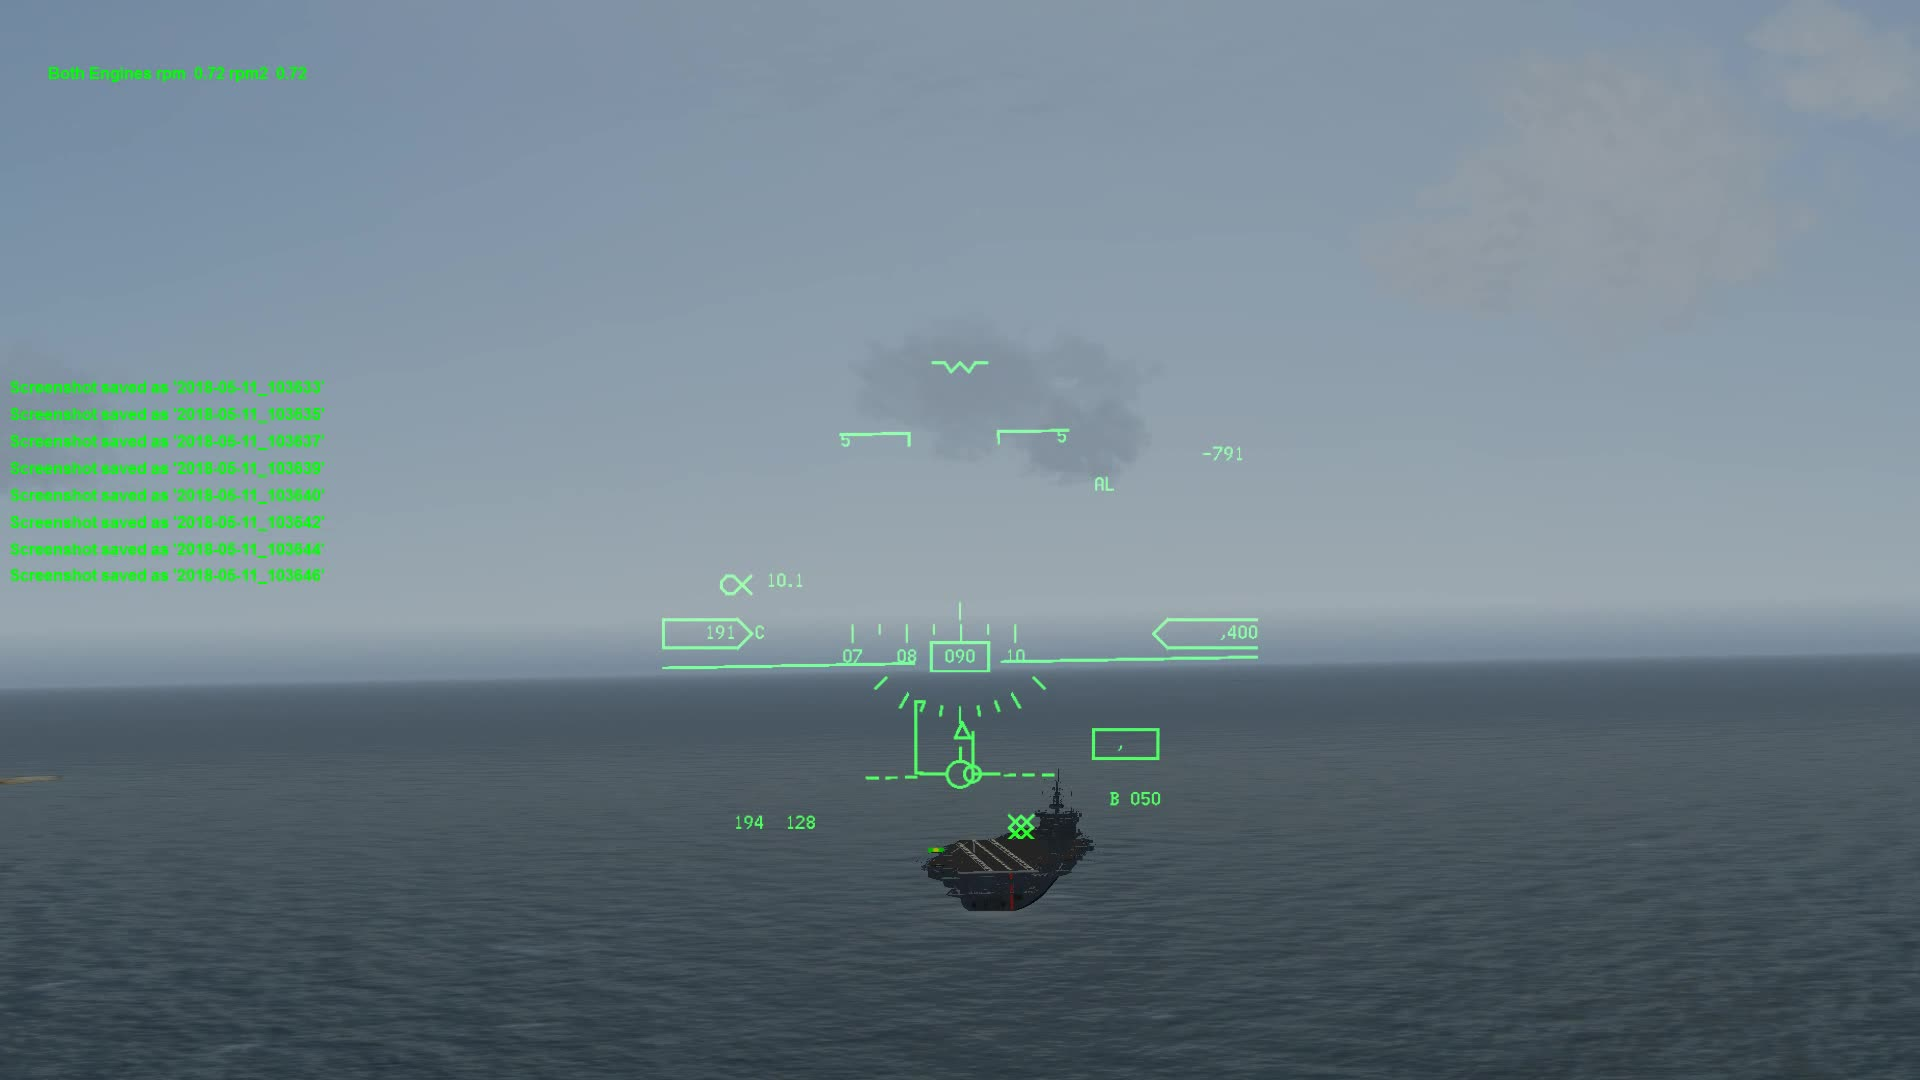speed_vector: (922, 746, 1004, 794)
